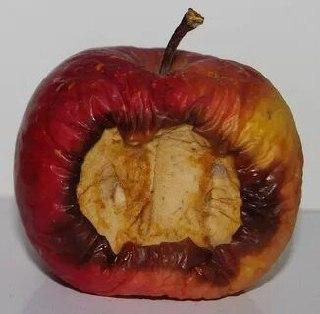Apple: (13, 46, 302, 300)
